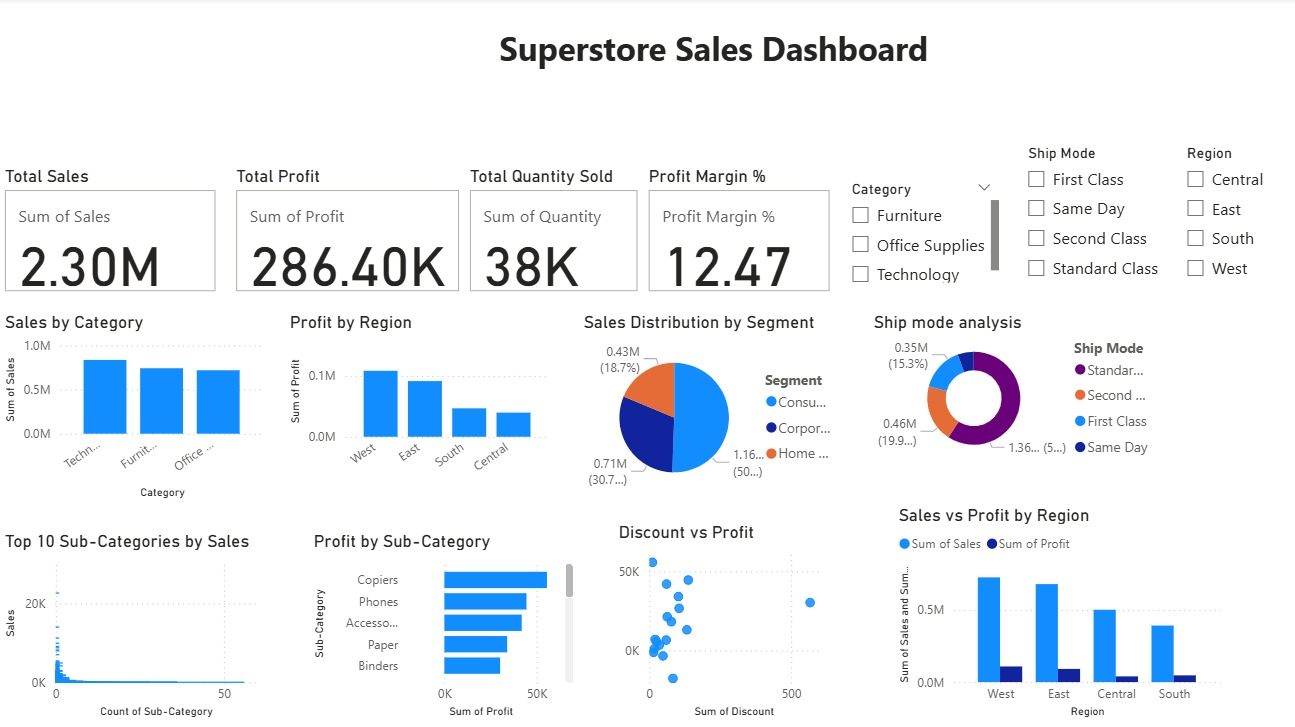

Layout of this report page (visuals, bound fields, positions):
{"tool":"powerbi","page":{"name":"Page 1","canvas":[1280,720],"ordinal":0},"visuals":[{"type":"cardVisual","title":"Total Sales","fields":{"Data":["Sum(SampleSuperstore.Sales)"]},"box":[0,163.9,216.4,128.4],"z":0},{"type":"cardVisual","title":"Total Profit","fields":{"Data":["Sum(SampleSuperstore.Profit)"]},"box":[226.2,163.9,228.7,128.4],"z":1},{"type":"cardVisual","title":"Total Quantity Sold","fields":{"Data":["Sum(SampleSuperstore.Quantity)"]},"box":[454.9,163.9,174.9,128.4],"z":2},{"type":"cardVisual","title":"Profit Margin %","fields":{"Data":["SampleSuperstore.Profit Margin %"]},"box":[629.8,163.9,187.1,128.4],"z":3},{"type":"clusteredColumnChart","title":"Sales by Category","fields":{"Category":["SampleSuperstore.Category"],"Y":["Sum(SampleSuperstore.Sales)"]},"box":[0,306.9,264.1,188.3],"z":4},{"type":"clusteredColumnChart","title":"Profit by Region","fields":{"Category":["SampleSuperstore.Region"],"Y":["Sum(SampleSuperstore.Profit)"]},"box":[278.8,306.9,264.1,188.3],"z":5},{"type":"pieChart","title":"Sales Distribution by Segment","fields":{"Category":["SampleSuperstore.Segment"],"Y":["Sum(SampleSuperstore.Sales)"]},"box":[566.2,306.9,264.1,188.3],"z":6},{"type":"clusteredBarChart","title":"Top 10 Sub-Categories by Sales","fields":{"Category":["SampleSuperstore.Sales"],"Y":["CountNonNull(SampleSuperstore.Sub-Category)"]},"box":[0,520.9,264.1,188.3],"z":7},{"type":"slicer","fields":{"Values":["SampleSuperstore.Region"]},"box":[1148.2,138.2,132.1,143.1],"z":8},{"type":"slicer","fields":{"Values":["SampleSuperstore.Category"]},"box":[820.5,173.6,161.4,110.1],"z":9},{"type":"slicer","fields":{"Values":["SampleSuperstore.Ship Mode"]},"box":[992.9,138.2,146.7,145.5],"z":10},{"type":"textbox","box":[305.7,22,785.1,80.7],"z":12},{"type":"clusteredBarChart","title":"Profit by Sub-Category","fields":{"Y":["Sum(SampleSuperstore.Profit)"],"Category":["SampleSuperstore.Sub-Category"]},"box":[302,520.9,264.1,188.3],"z":13},{"type":"scatterChart","title":"Discount vs Profit","fields":{"X":["Sum(SampleSuperstore.Discount)"],"Y":["Sum(SampleSuperstore.Profit)"],"Category":["SampleSuperstore.Sub-Category"]},"box":[600.4,512.4,216.4,196.9],"z":14},{"type":"donutChart","title":"Ship mode analysis","fields":{"Category":["SampleSuperstore.Ship Mode"],"Y":["Sum(SampleSuperstore.Sales)"]},"box":[849.9,306.9,289.8,150.4],"z":15},{"type":"clusteredColumnChart","title":"Sales vs Profit by Region","fields":{"Category":["SampleSuperstore.Region"],"Y":["Sum(SampleSuperstore.Sales)","Sum(SampleSuperstore.Profit)"]},"box":[874.3,495.2,325.3,214],"z":16}]}

Visuals, with their boxes in screenshot pixels (x1, y1, x2, y2), scaled from the page's 1280x720 canvas onto the 1295x727 screenshot:
"Total Sales" cardVisual: [x1=0, y1=165, x2=219, y2=295]
"Total Profit" cardVisual: [x1=229, y1=165, x2=460, y2=295]
"Total Quantity Sold" cardVisual: [x1=460, y1=165, x2=637, y2=295]
"Profit Margin %" cardVisual: [x1=637, y1=165, x2=826, y2=295]
"Sales by Category" clusteredColumnChart: [x1=0, y1=310, x2=267, y2=500]
"Profit by Region" clusteredColumnChart: [x1=282, y1=310, x2=549, y2=500]
"Sales Distribution by Segment" pieChart: [x1=573, y1=310, x2=840, y2=500]
"Top 10 Sub-Categories by Sales" clusteredBarChart: [x1=0, y1=526, x2=267, y2=716]
slicer - SampleSuperstore.Region: [x1=1162, y1=140, x2=1294, y2=284]
slicer - SampleSuperstore.Category: [x1=830, y1=175, x2=993, y2=286]
slicer - SampleSuperstore.Ship Mode: [x1=1005, y1=140, x2=1153, y2=286]
textbox: [x1=309, y1=22, x2=1104, y2=104]
"Profit by Sub-Category" clusteredBarChart: [x1=306, y1=526, x2=573, y2=716]
"Discount vs Profit" scatterChart: [x1=607, y1=517, x2=826, y2=716]
"Ship mode analysis" donutChart: [x1=860, y1=310, x2=1153, y2=462]
"Sales vs Profit by Region" clusteredColumnChart: [x1=885, y1=500, x2=1214, y2=716]
